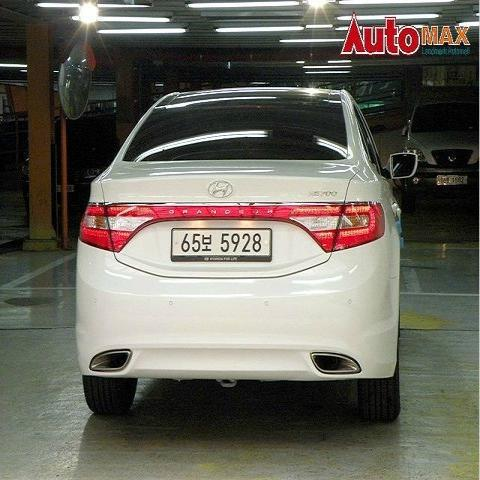LP: (169, 223, 275, 265)
